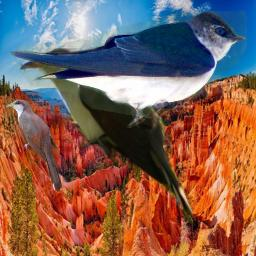Cuckoo: (16, 48, 193, 224), (4, 98, 64, 193)
Swallow: (10, 11, 247, 128)
